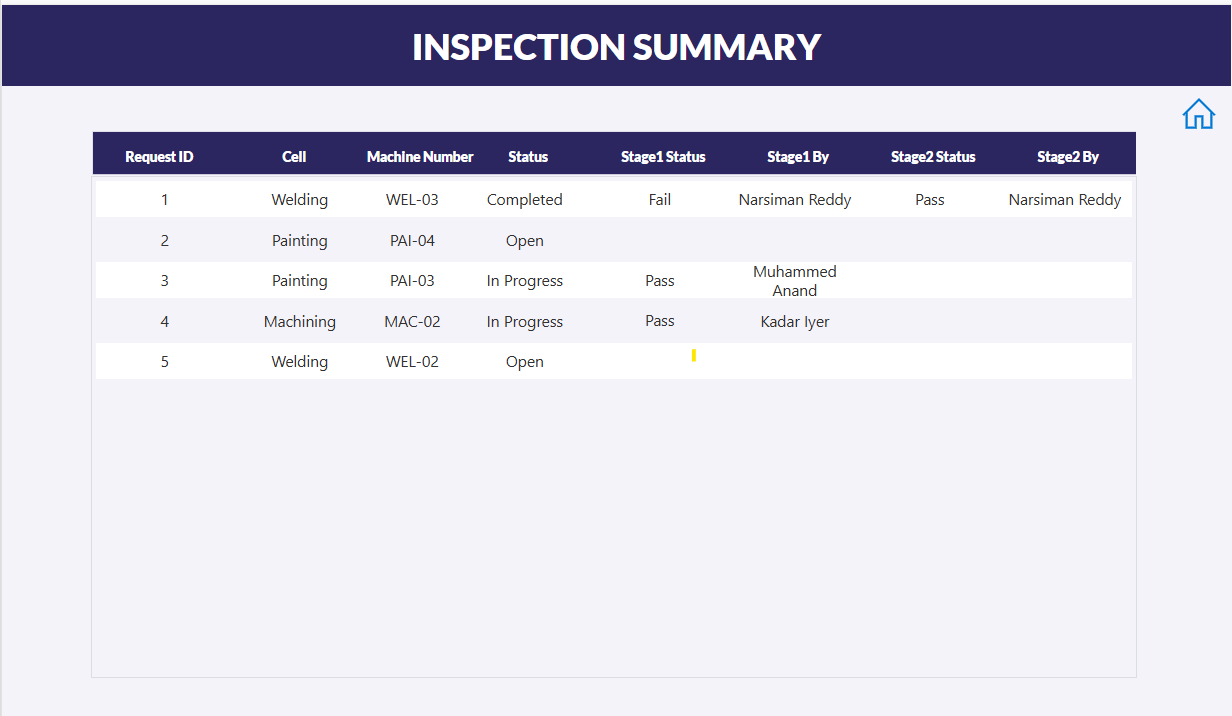

What the dashboard file says about the page in this screenshot:
{"tool":"powerbi","page":{"name":"Summary","canvas":[1280,720],"ordinal":3},"visuals":[{"type":"shape","box":[116,46,1152,662],"z":0},{"type":"actionButton","title":"Overview","box":[8,85,100,40],"z":1000},{"type":"actionButton","title":"Analysis","box":[8,136,100,40],"z":2000},{"type":"actionButton","title":"Priority Focus","box":[7.8,186.7,100,64.4],"z":3000},{"type":"actionButton","title":"Summary","box":[7.8,251.1,100,40],"z":4000},{"type":"textbox","box":[8,347,100,281],"z":5000},{"type":"slicer","fields":{"Values":["inspection_master.Cell"]},"box":[8,377,100,59],"z":6000},{"type":"slicer","fields":{"Values":["inspection_master.Priority"]},"box":[8,436,100,59],"z":7000},{"type":"slicer","fields":{"Values":["inspection_master.RequestCategory"]},"box":[8,495,100,59],"z":8000},{"type":"slicer","fields":{"Values":["inspection_master.Month"]},"box":[8,554,100,59],"z":9000},{"type":"textbox","title":"Inspection Workflow Summary","box":[134,62,537,65],"z":10000},{"type":"cardVisual","fields":{"Data":["inspection_master.Last Refresh"]},"box":[1052,47,191,48],"z":11000},{"type":"textbox","title":"Welcome User ! ","box":[968,7,300,39],"z":12000},{"type":"tableEx","title":"Inspection Request Summary","fields":{"Values":["inspection_master.RequestID","inspection_master.RequestStatus","inspection_master.TotalTurnaroundDays","inspection_master.Date","inspection_master.Cell","inspection_master.MachineName","inspection_master.MachineNumber","inspection_master.MachineStatus","inspection_master.Priority","inspection_master.RequestCategory","inspection_master.RequestType","inspection_master.MachineIncharge"]},"box":[170.1,146.3,532.1,542.5],"z":13000},{"type":"tableEx","title":"Stage1 Inspection Summary","fields":{"Values":["inspection_master.RequestID","inspection_master.RequestStatus","inspection_master.InspectionID","inspection_master.Stage1Status","inspection_master.Stage1StartDate","inspection_master.Stage1EndDate","inspection_master.Stage1Duration","inspection_master.Stage1Remarks","inspection_master.Stage1InspectedBy"]},"box":[710.5,146.3,532.1,289.4],"z":14000},{"type":"tableEx","title":"Stage2 Inspection Summary","fields":{"Values":["inspection_master.RequestID","inspection_master.RequestStatus","inspection_master.Stage2ID","inspection_master.Stage2Status","inspection_master.Stage2StartDate","inspection_master.Stage2EndDate","inspection_master.Stage2Duration","inspection_master.Stage2Remarks","inspection_master.Stage2InspectedBy","inspection_master.Stage2FlagRequested"]},"box":[710.5,446,532.1,242.7],"z":15000}]}

Visuals, with their boxes on the page's 1280x720 design canvas (x1, y1, x2, y2). These are canvas units, not pixel positions in the 1232x716 screenshot, which may show the page scaled, cropped or inside an application window:
shape: bbox=(116, 46, 1268, 708)
"Overview" actionButton: bbox=(8, 85, 108, 125)
"Analysis" actionButton: bbox=(8, 136, 108, 176)
"Priority Focus" actionButton: bbox=(8, 187, 108, 251)
"Summary" actionButton: bbox=(8, 251, 108, 291)
textbox: bbox=(8, 347, 108, 628)
slicer - inspection_master.Cell: bbox=(8, 377, 108, 436)
slicer - inspection_master.Priority: bbox=(8, 436, 108, 495)
slicer - inspection_master.RequestCategory: bbox=(8, 495, 108, 554)
slicer - inspection_master.Month: bbox=(8, 554, 108, 613)
"Inspection Workflow Summary" textbox: bbox=(134, 62, 671, 127)
cardVisual - inspection_master.Last Refresh: bbox=(1052, 47, 1243, 95)
"Welcome User ! " textbox: bbox=(968, 7, 1268, 46)
"Inspection Request Summary" tableEx: bbox=(170, 146, 702, 689)
"Stage1 Inspection Summary" tableEx: bbox=(710, 146, 1243, 436)
"Stage2 Inspection Summary" tableEx: bbox=(710, 446, 1243, 689)
